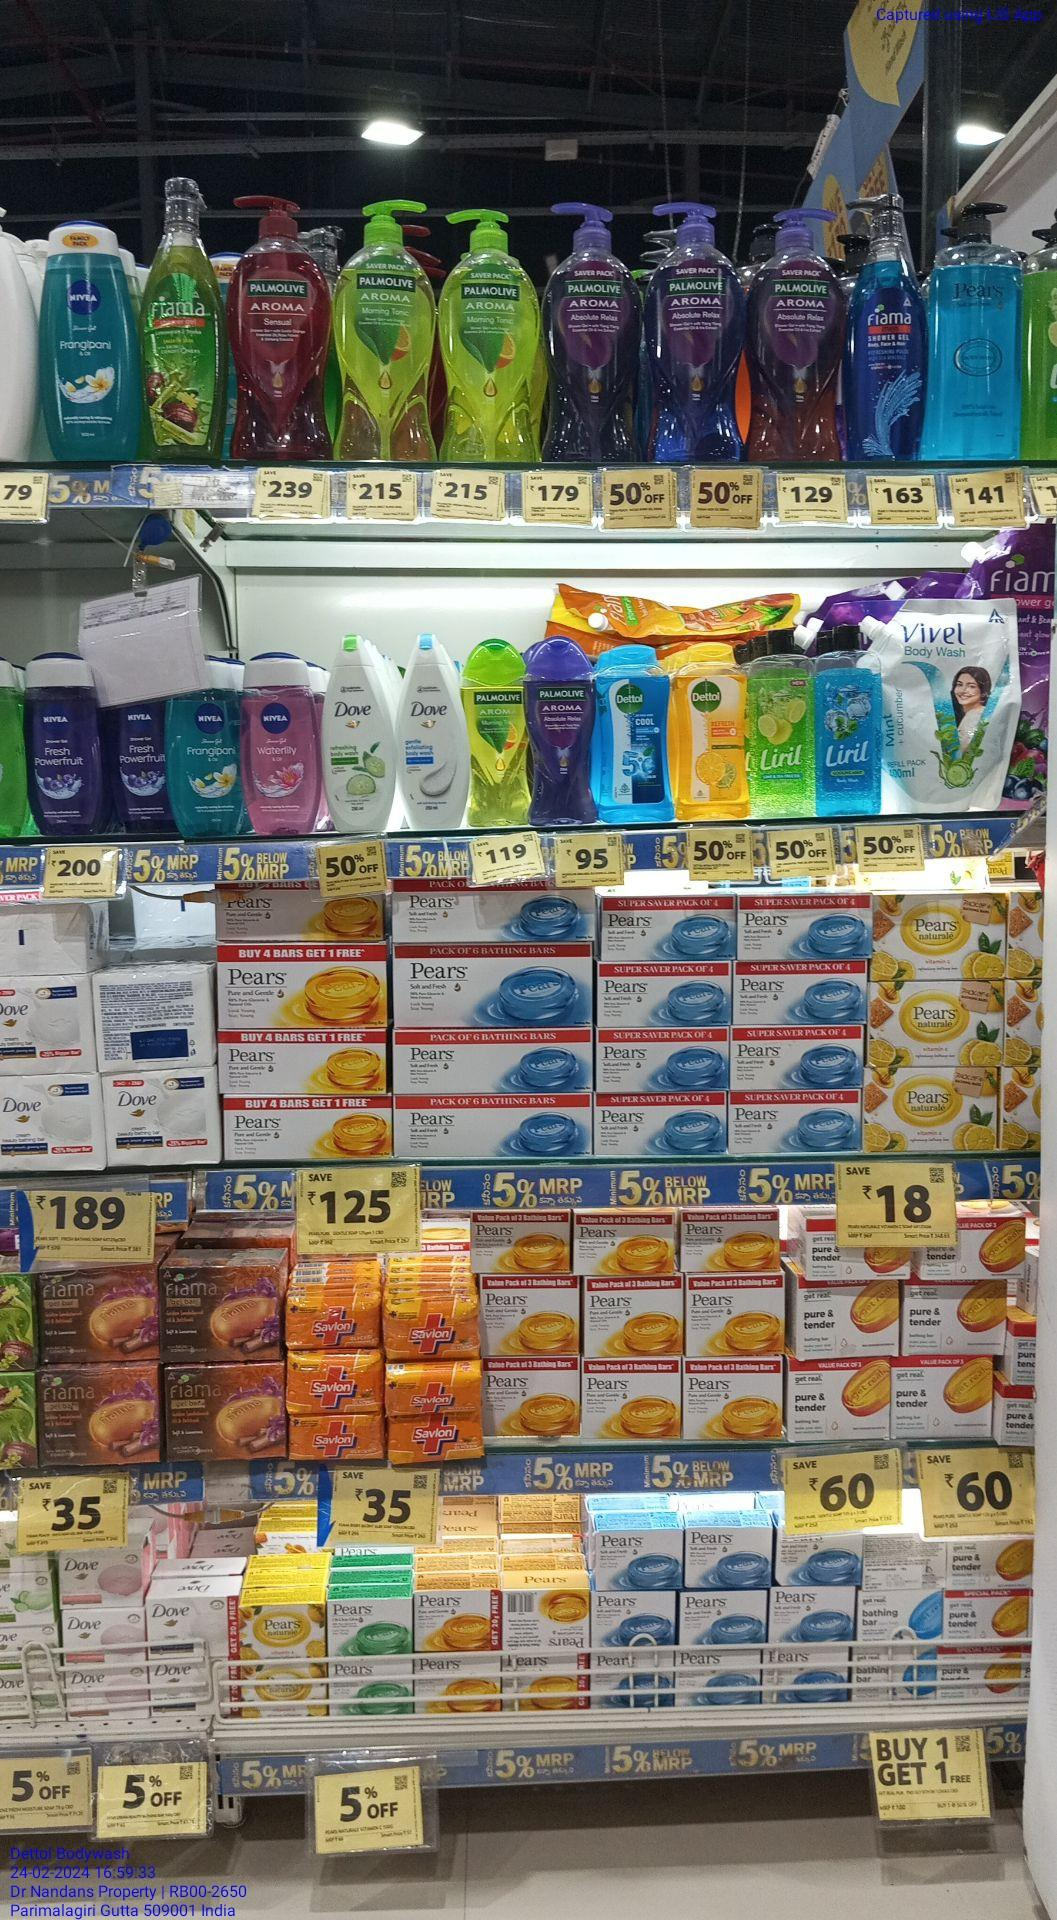Dettol_Bodywash_Cool: (595, 648, 666, 823)
Dettol_Bodywash_Refresh: (670, 639, 741, 821)
Dove_Gentle_Exfoliating_Body_Wash_250ML: (400, 638, 458, 830)
Dove_Refreshing_Body_Wash_250ML: (320, 635, 392, 834)
Liril_Cooling_Mint_Body_Wash_250ML: (815, 625, 881, 817)
Liril_Lime_and_Tea_Tree_Oil_Body_Wash_250ML: (748, 637, 808, 820)
Nivea_Shower_Gel_Frangipani_and_Oil_250ML: (43, 213, 143, 474), (164, 691, 240, 834)
Nivea_Shower_Gel_Fresh_Powerfruit_250ML: (29, 647, 104, 836), (109, 711, 161, 836)
Nivea_Shower_Gel_Waterlily_and_Oil_250ML: (243, 655, 319, 837)
Palmolive_Aroma_Morning_Tonic_Shower_Gel_250ML: (462, 639, 517, 829)
Palmolive_Aroma_Relax_250ML: (528, 634, 592, 827)
